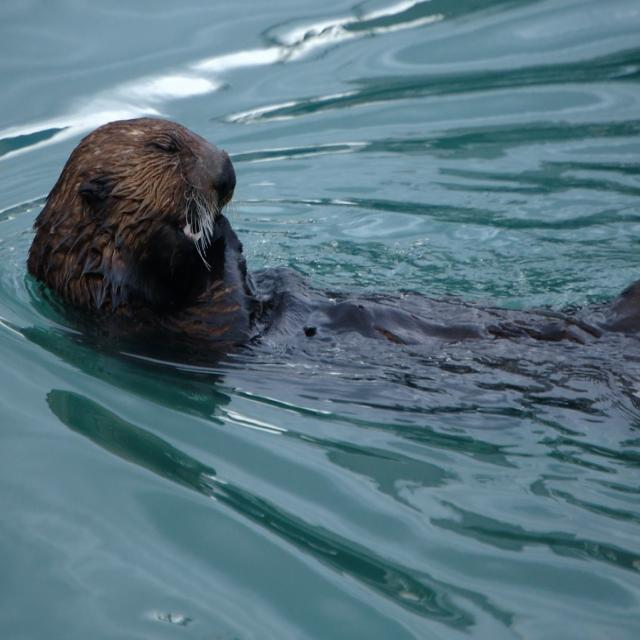otter: (30, 114, 267, 340)
